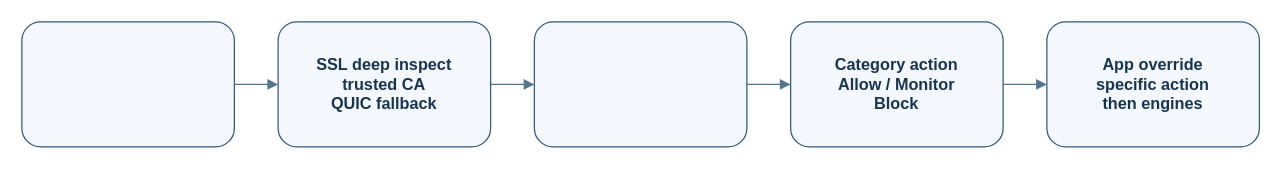
Image size: 1281x169. Some labels were removed from this diagram. The shapes that lost their labels are listed below. From the top down, each one's centre as x and y in pixels, then its label:
At point 127,84: "Endpoint traffic steered to Security PoP".
At point 640,84: "IPS HTTP decoder identify SaaS application".
